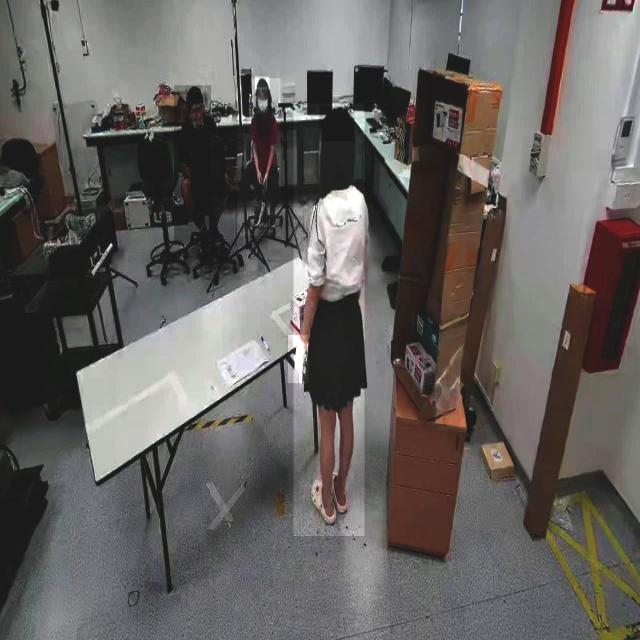face_mask: (256, 87, 268, 113)
face_nomask: (190, 103, 204, 125)
hand_glove: (288, 335, 309, 384)
hand_noglove: (223, 171, 231, 197), (255, 168, 263, 187), (262, 172, 268, 195)
head_nohelmet: (319, 106, 355, 142), (186, 86, 203, 100), (255, 76, 270, 90)
person: (293, 103, 365, 537), (237, 78, 281, 236), (174, 86, 212, 247)
